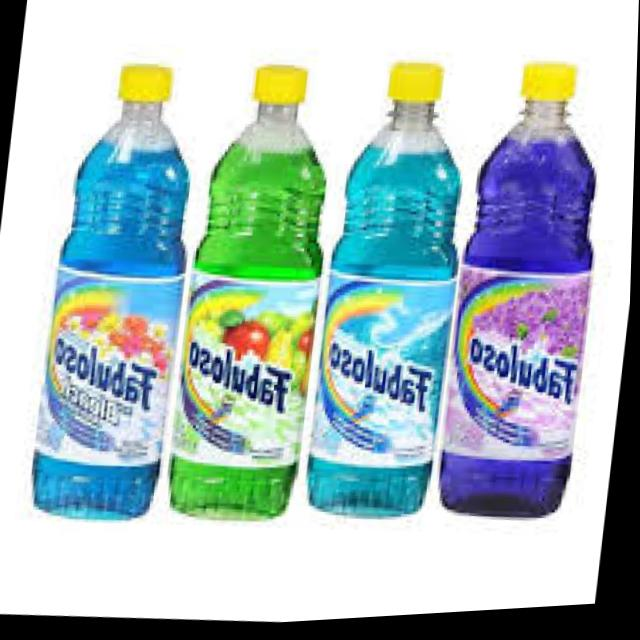Botella: (159, 32, 346, 523), (300, 44, 481, 531)
